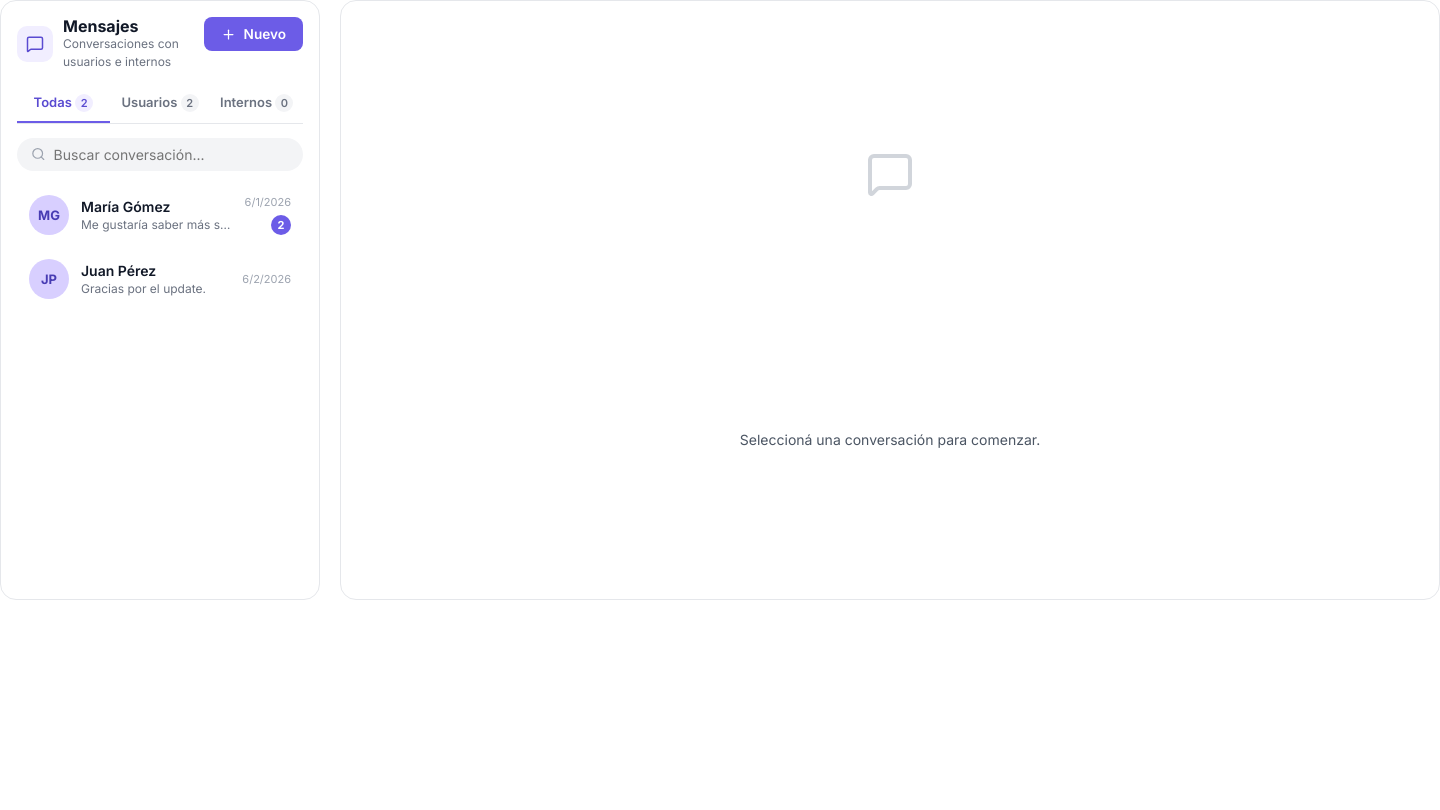
MensajesSection › al abrir una conversación muestra su hilo y limpia los no leídos
Check: the 3rd text "2" is shown, box [271,215,291,235]
Click the button "MG María Gómez Me gustaría saber más sobre Luna. 6/1/2026 2" at (160, 215), box [17,185,303,245]
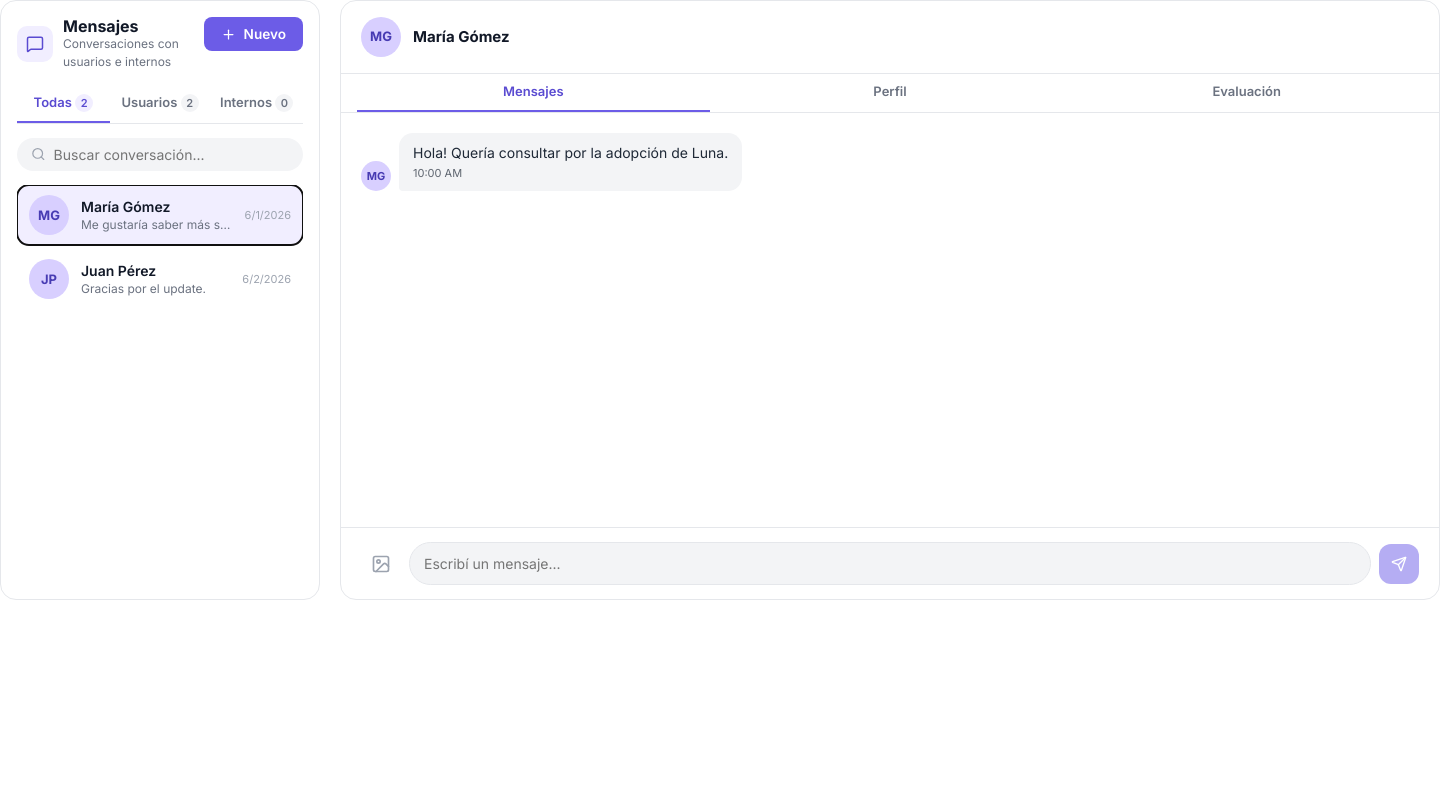
Check: the heading "María Gómez" is shown, box [413,27,510,46]
Check: the text "Hola! Quería consultar por la adopción de Luna." is shown, box [413,142,728,162]
